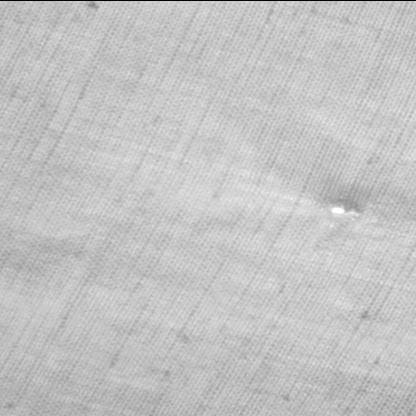hole: (324, 199, 366, 220)
